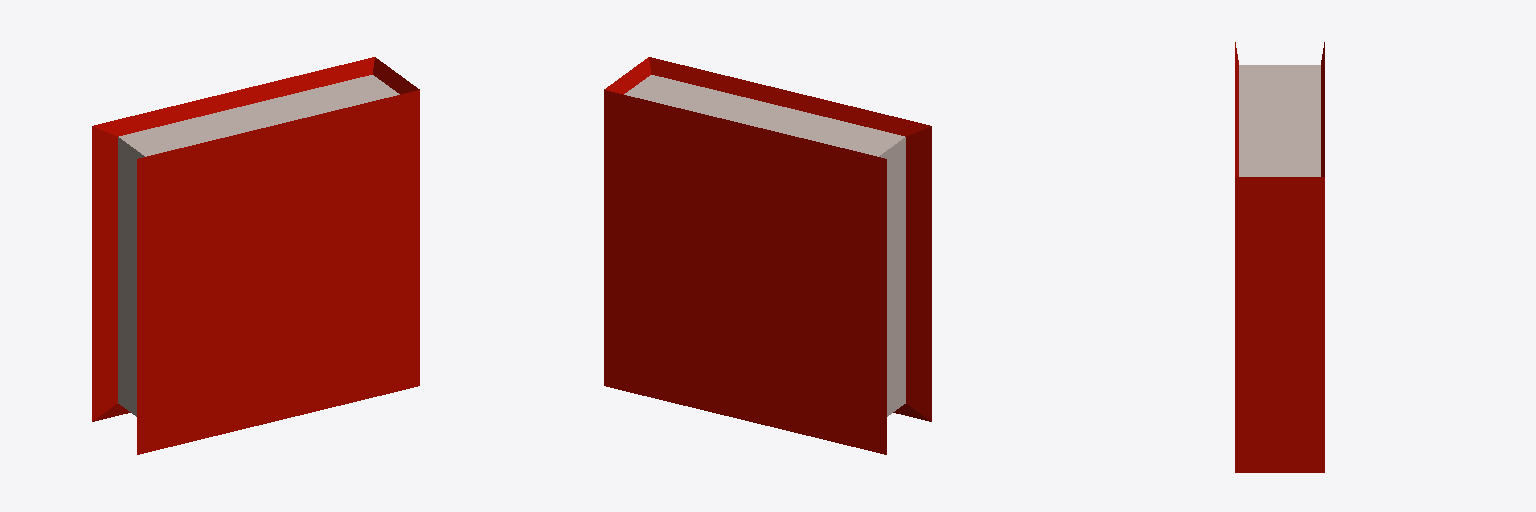
File: Book_001.obj
3 views of the same model, side by side, from view 1: azimuth 30°, elevation 25°; view 2: azimuth 150°, elevation 25°; view 3: azimuth 270°, elevation 25° (orthographic).
Visible parts, largest first — view 1: Book_1_Cube.006; view 2: Book_1_Cube.006; view 3: Book_1_Cube.006.
Boxes of the visible parts, <box> form: Book_1_Cube.006: <box>92,57,419,454</box>; Book_1_Cube.006: <box>604,57,931,454</box>; Book_1_Cube.006: <box>1235,42,1324,472</box>.
Bounding box in the file's own units: 2 × 2 × 0.5511.